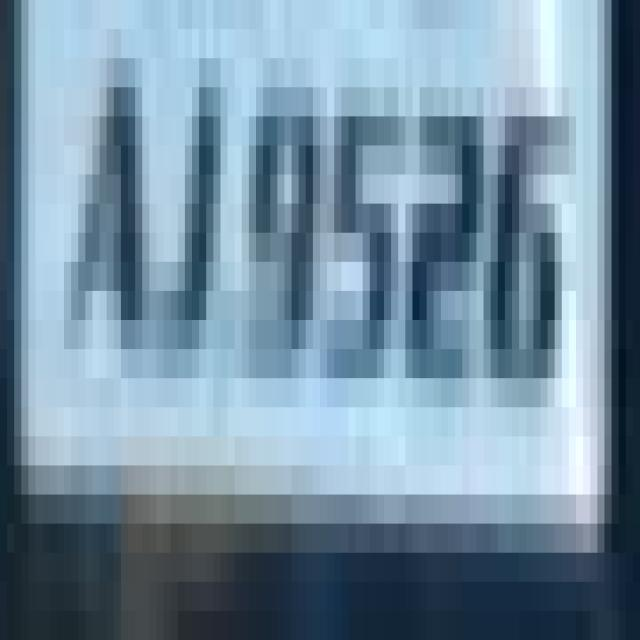plate: (7, 58, 597, 582)
